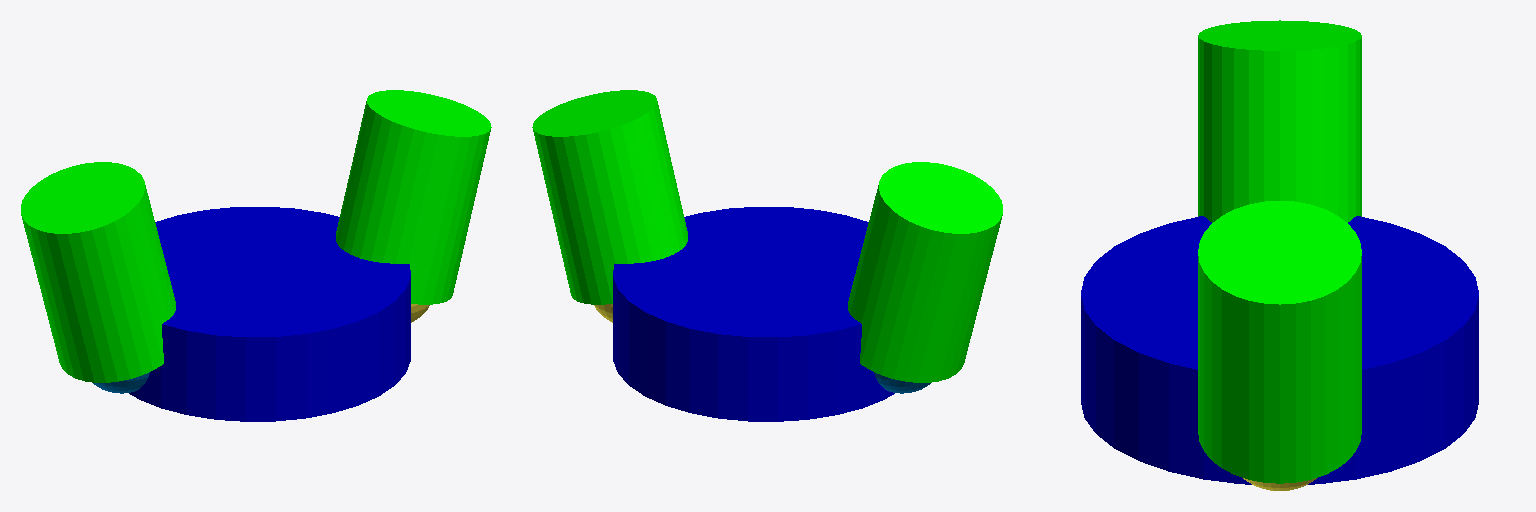
URDF robot description (gripper_2f_1j):
<?xml version='1.0' encoding='UTF-8'?>
<robot name="gripper_2f_1j">
  <link name="palm">
    <inertial>
      <origin xyz="0.0 0.0 0.0" rpy="0.0 -0.0 0.0"/>
      <mass value="1.0"/>
      <inertia ixx="1.0" ixy="0.0" ixz="0.0" iyy="1.0" iyz="0.0" izz="1.0"/>
    </inertial>
    <visual>
      <geometry>
        <cylinder radius="0.05" length="0.03"/>
      </geometry>
      <material name="blue"/>
      <origin xyz="0.0 0.0 0.0" rpy="0.0 -0.0 0.0"/>
    </visual>
    <collision>
      <geometry>
        <cylinder radius="0.05" length="0.03"/>
      </geometry>
      <origin xyz="0.0 0.0 0.0" rpy="0.0 0.0 0.0"/>
    </collision>
  </link>
  <link name="f11">
    <inertial>
      <origin xyz="0.0 0.0 0.0" rpy="0.0 -0.0 0.0"/>
      <mass value="1.0"/>
      <inertia ixx="1.0" ixy="0.0" ixz="0.0" iyy="1.0" iyz="0.0" izz="1.0"/>
    </inertial>
    <visual>
      <geometry>
        <cylinder radius="0.02058400289479507" length="0.05811021350987858"/>
      </geometry>
      <material name="green"/>
      <origin xyz="0.0 0.0 0.02905510675493929" rpy="0.0 -0.0 0.0"/>
    </visual>
    <collision>
      <geometry>
        <cylinder radius="0.02058400289479507" length="0.05811021350987858"/>
      </geometry>
      <origin xyz="0.0 0.0 0.05" rpy="0.0 0.0 0.0"/>
    </collision>
  </link>
  <link name="f21">
    <inertial>
      <origin xyz="0.0 0.0 0.0" rpy="0.0 -0.0 0.0"/>
      <mass value="1.0"/>
      <inertia ixx="1.0" ixy="0.0" ixz="0.0" iyy="1.0" iyz="0.0" izz="1.0"/>
    </inertial>
    <visual>
      <geometry>
        <cylinder radius="0.02058400289479507" length="0.05811021350987858"/>
      </geometry>
      <material name="green"/>
      <origin xyz="0.0 0.0 0.02905510675493929" rpy="0.0 -0.0 0.0"/>
    </visual>
    <collision>
      <geometry>
        <cylinder radius="0.02058400289479507" length="0.05811021350987858"/>
      </geometry>
      <origin xyz="0.0 0.0 0.05" rpy="0.0 0.0 0.0"/>
    </collision>
  </link>
  <link name="f11_base">
    <inertial>
      <origin xyz="0.0 0.0 0.0" rpy="0.0 -0.0 0.0"/>
      <mass value="1.0"/>
      <inertia ixx="1.0" ixy="0.0" ixz="0.0" iyy="1.0" iyz="0.0" izz="1.0"/>
    </inertial>
    <visual>
      <geometry>
        <sphere radius="0.015"/>
      </geometry>
      <origin xyz="0.0 0.0 0.0" rpy="0.0 -0.0 0.0"/>
    </visual>
  </link>
  <link name="f21_base">
    <inertial>
      <origin xyz="0.0 0.0 0.0" rpy="0.0 -0.0 0.0"/>
      <mass value="1.0"/>
      <inertia ixx="1.0" ixy="0.0" ixz="0.0" iyy="1.0" iyz="0.0" izz="1.0"/>
    </inertial>
    <visual>
      <geometry>
        <sphere radius="0.015"/>
      </geometry>
      <origin xyz="0.0 0.0 0.0" rpy="0.0 -0.0 0.0"/>
    </visual>
  </link>
  <joint name="f11_joint" type="revolute">
    <dynamics damping="100.0" friction="1.0"/>
    <limit effort="30.0" velocity="2.0" lower="-0.6" upper="0.25"/>
    <parent link="f11_base"/>
    <child link="f11"/>
    <axis xyz="0. 1. 0."/>
    <origin xyz="0.0 0.0 0.0" rpy="0.0 0.25 0.0"/>
  </joint>
  <joint name="f21_joint" type="revolute">
    <dynamics damping="100.0" friction="1.0"/>
    <limit effort="30.0" velocity="2.0" lower="-0.6" upper="0.25"/>
    <parent link="f21_base"/>
    <child link="f21"/>
    <axis xyz=" 0. -1.  0."/>
    <origin xyz="0.0 0.0 0.0" rpy="0.0 -0.25 0.0"/>
  </joint>
  <joint name="f11_base_joint" type="fixed">
    <parent link="palm"/>
    <child link="f11_base"/>
    <axis xyz="1. 0. 0."/>
    <origin xyz="0.05 0.0 0.0" rpy="0.0 0.0 0.0"/>
  </joint>
  <joint name="f21_base_joint" type="fixed">
    <parent link="palm"/>
    <child link="f21_base"/>
    <axis xyz="1. 0. 0."/>
    <origin xyz="-0.05 -0.0 0.0" rpy="0.0 0.0 0.0"/>
  </joint>
  <material name="blue">
    <color rgba="0.  0.  0.8 1. "/>
  </material>
  <material name="green">
    <color rgba="0. 1. 0. 1."/>
  </material>
</robot>

--- Render facts (derived) ---
3 views of the same robot in one strip: view 1: azimuth 30°, elevation 25°; view 2: azimuth 150°, elevation 25°; view 3: azimuth 270°, elevation 25° (orthographic).
Robot: gripper_2f_1j — 5 links, 4 joints (2 revolute, 2 fixed); root link palm; default pose: every joint at zero.
Links seen in each view (by area): view 1: palm, f21, f11, f21_base; view 2: palm, f21, f11, f21_base; view 3: palm, f11, f21.
Link boxes in pixels (<box>): palm: <box>129,207,410,421</box>; f21: <box>21,162,175,382</box>; f11: <box>336,90,491,304</box>; f21_base: <box>93,372,149,393</box>; palm: <box>613,207,894,421</box>; f21: <box>848,162,1002,382</box>; f11: <box>532,90,687,304</box>; f21_base: <box>874,372,930,393</box>; palm: <box>1081,216,1478,484</box>; f11: <box>1198,201,1361,483</box>; f21: <box>1198,20,1361,222</box>.
Bounding box of the posed robot: 0.1686 × 0.1 × 0.0764 m (x, y, z).
Geometry: primitives only (box / cylinder / sphere), no mesh files.